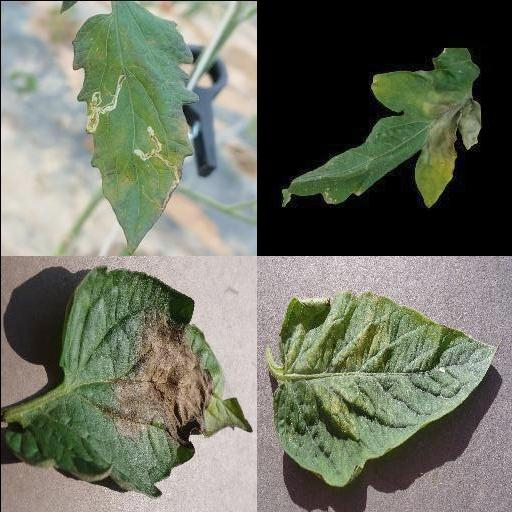Late Blight: (0, 265, 252, 499), (279, 49, 481, 211)
Leaf Miner: (70, 0, 199, 255)
Spider Mites: (271, 290, 505, 488)
